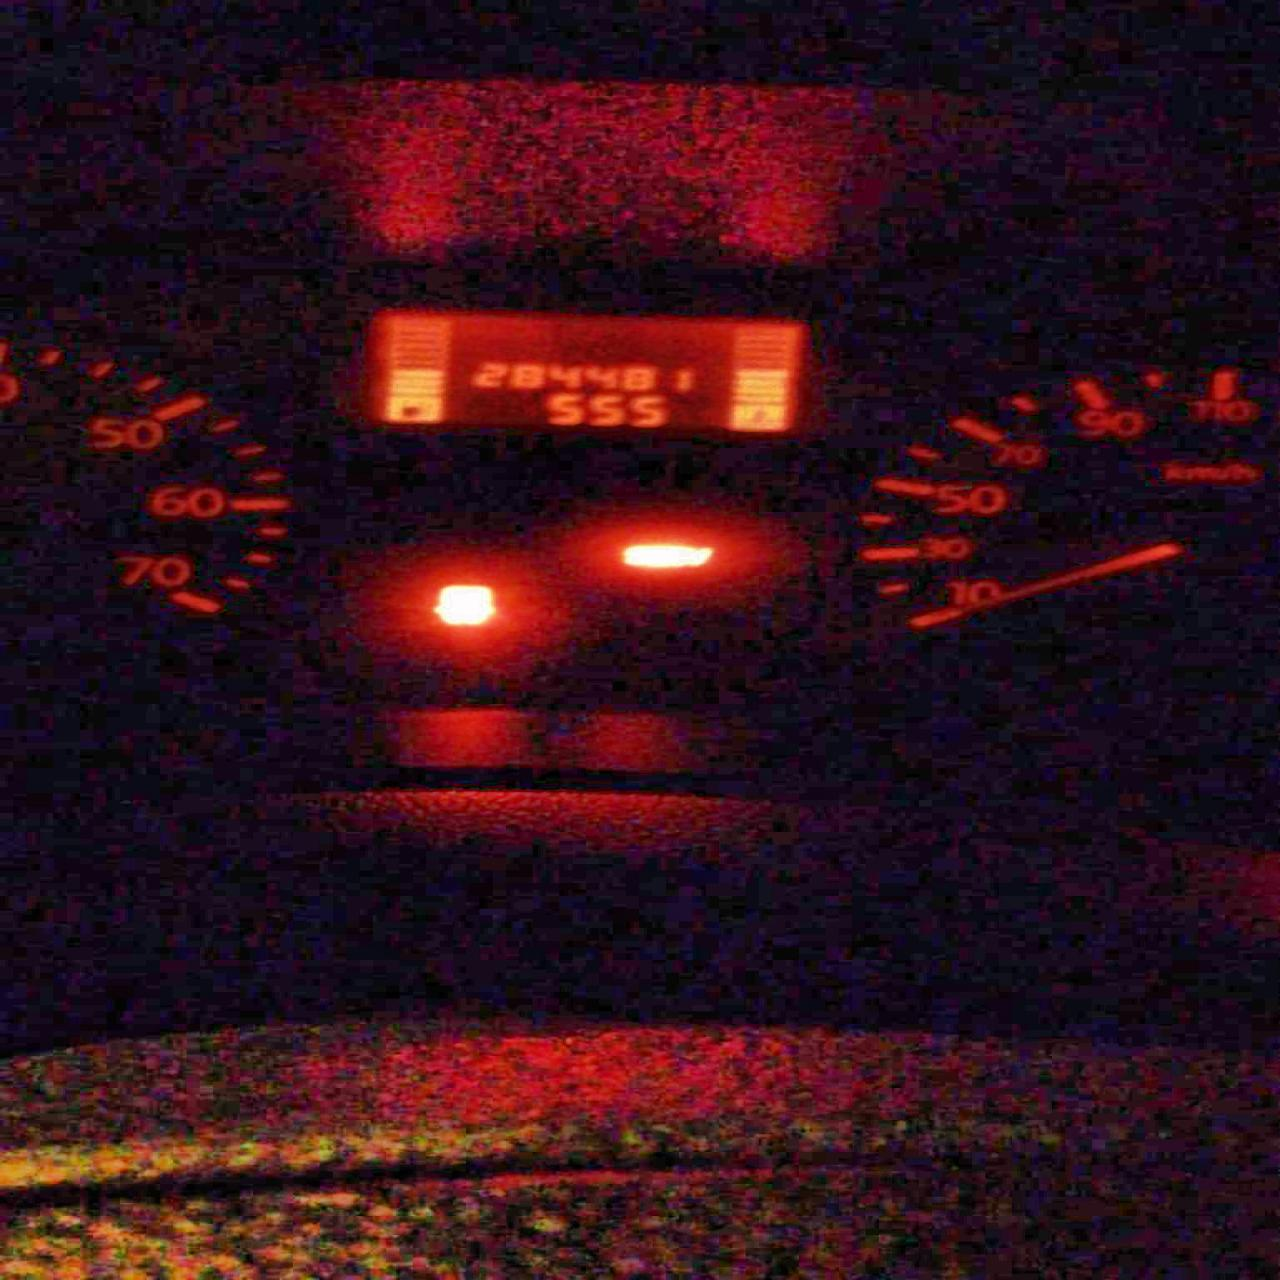1: (674, 366, 694, 393)
2: (468, 361, 508, 387)
4: (546, 363, 581, 390), (583, 365, 618, 389)
5: (626, 394, 667, 427), (584, 394, 626, 425), (545, 393, 585, 425)
8: (508, 362, 544, 388), (621, 366, 656, 390)
odometer: (359, 308, 813, 435)
